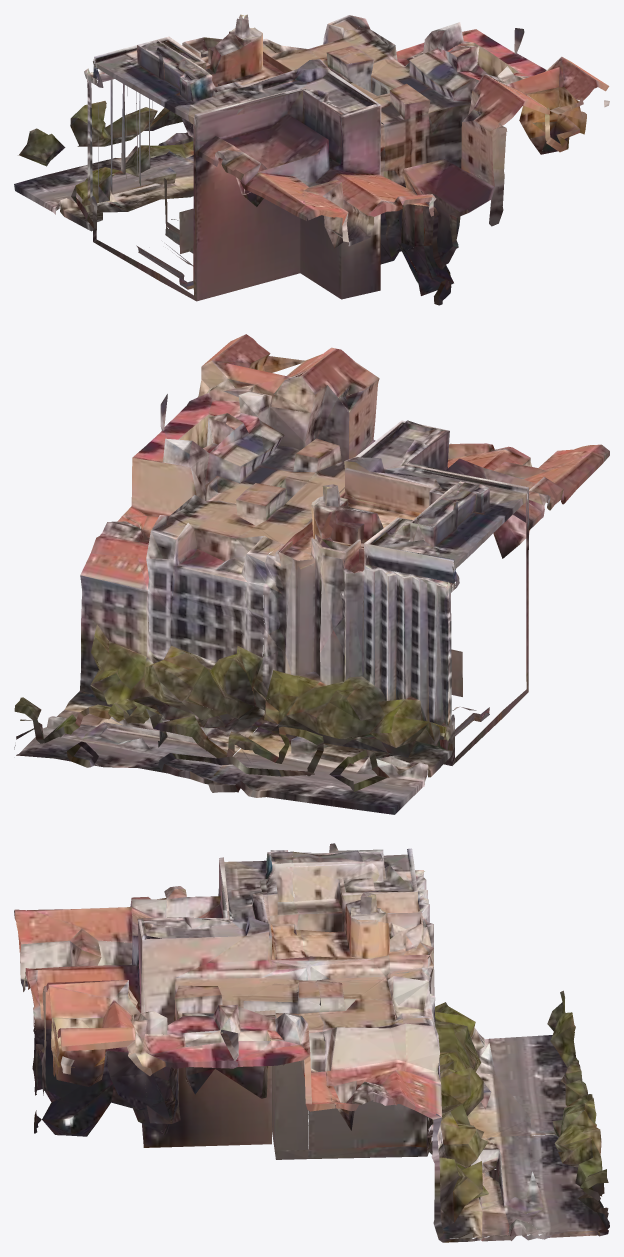
3 views of the same model, one above another, from view 1: azimuth 30°, elevation 25°; view 2: azimuth 150°, elevation 25°; view 3: azimuth 270°, elevation 25° (orthographic). The views are drawn at different scales.
Parts seen in each view (by area): view 1: Mesh_0; view 2: Mesh_0; view 3: Mesh_0.
Part boxes in pixels (left/top/right/bottom): Mesh_0: left=14, top=14, right=609, bottom=305; Mesh_0: left=14, top=334, right=609, bottom=814; Mesh_0: left=14, top=843, right=609, bottom=1242.
Size of the model in its own units: 66.58 by 38.89 by 82.63.
Materials: 2 (2 with a texture image).
